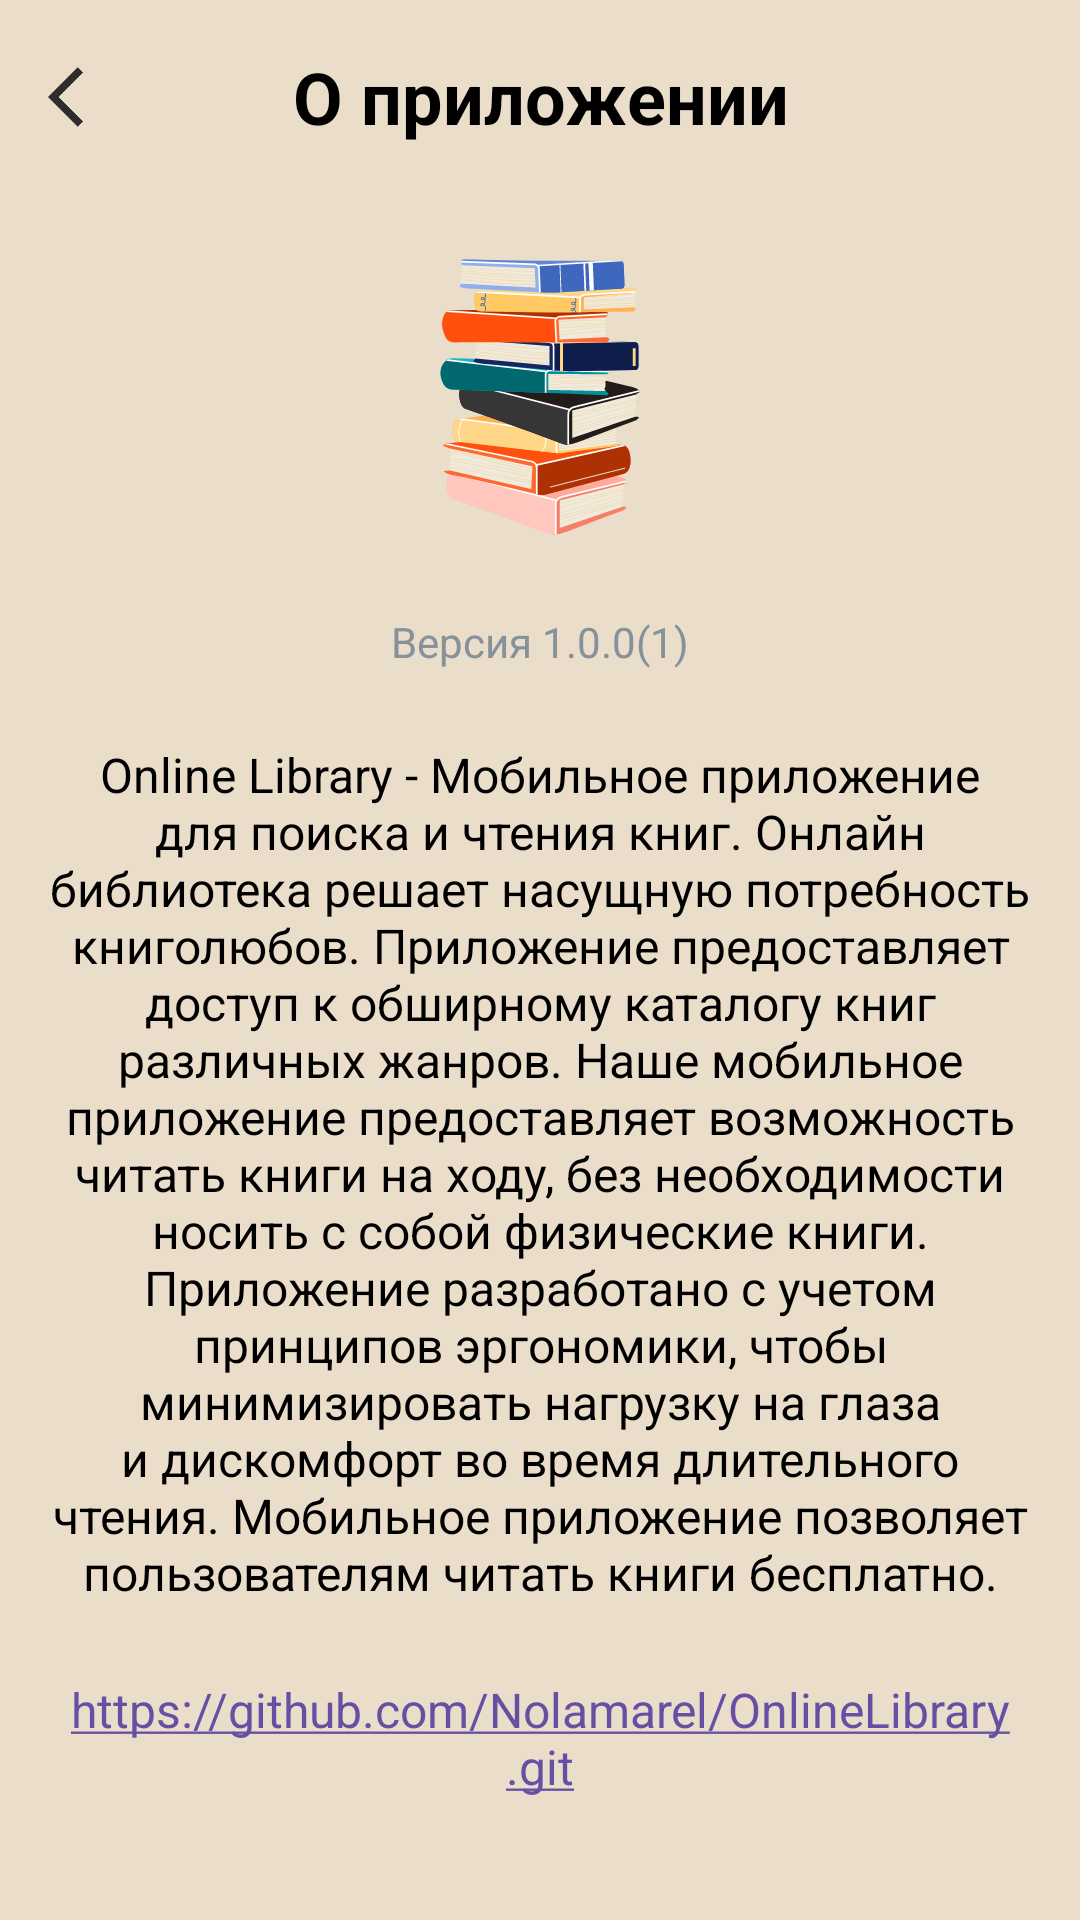

Locate icon controls on the screen. Image size 1080w x 1920h, boxes as (x1, y1, x2, y2).
books: (440, 259, 640, 535)
Назад: (48, 67, 83, 127)
